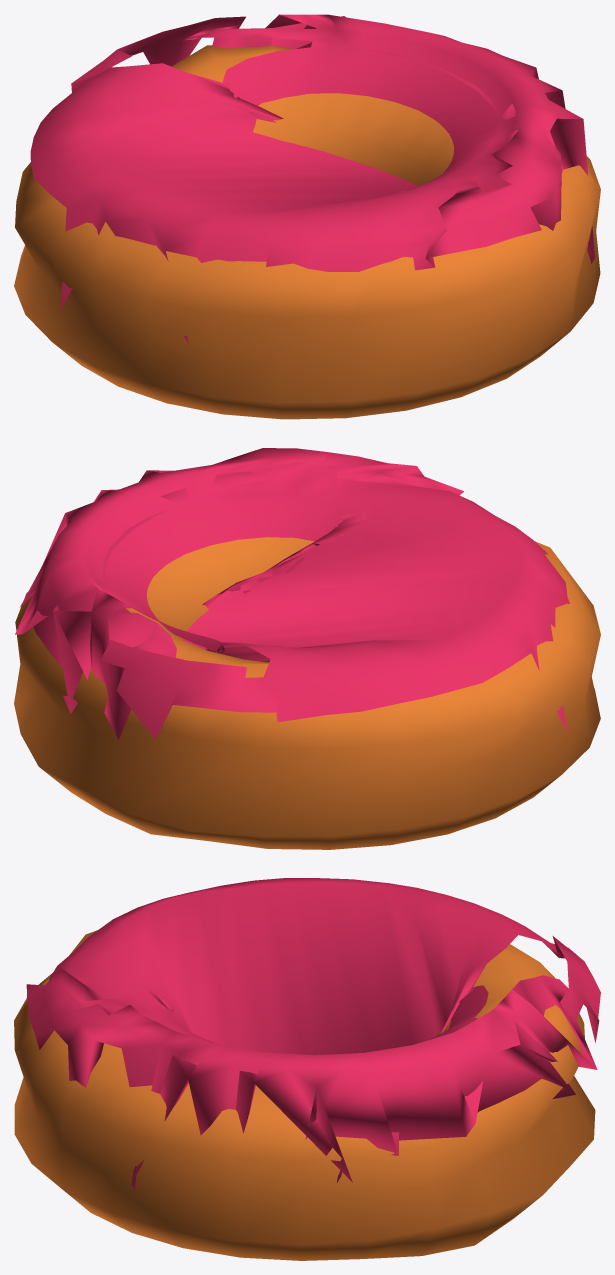
Rendered from donut.glb.
3 views of the same model, one above another, from view 1: azimuth 30°, elevation 25°; view 2: azimuth 150°, elevation 25°; view 3: azimuth 270°, elevation 25° (orthographic).
Visible parts, largest first — view 1: Donut, Icing; view 2: Icing, Donut; view 3: Icing, Donut.
Boxes of the visible parts, x1,y1,x2,y2 form: Donut: [14, 45, 600, 419]; Icing: [30, 14, 594, 343]; Icing: [15, 448, 569, 739]; Donut: [14, 537, 600, 849]; Icing: [26, 878, 600, 1189]; Donut: [14, 930, 595, 1260].
Size of what is drawn, in the model's own units: 0.4923 by 0.1927 by 0.4864.
